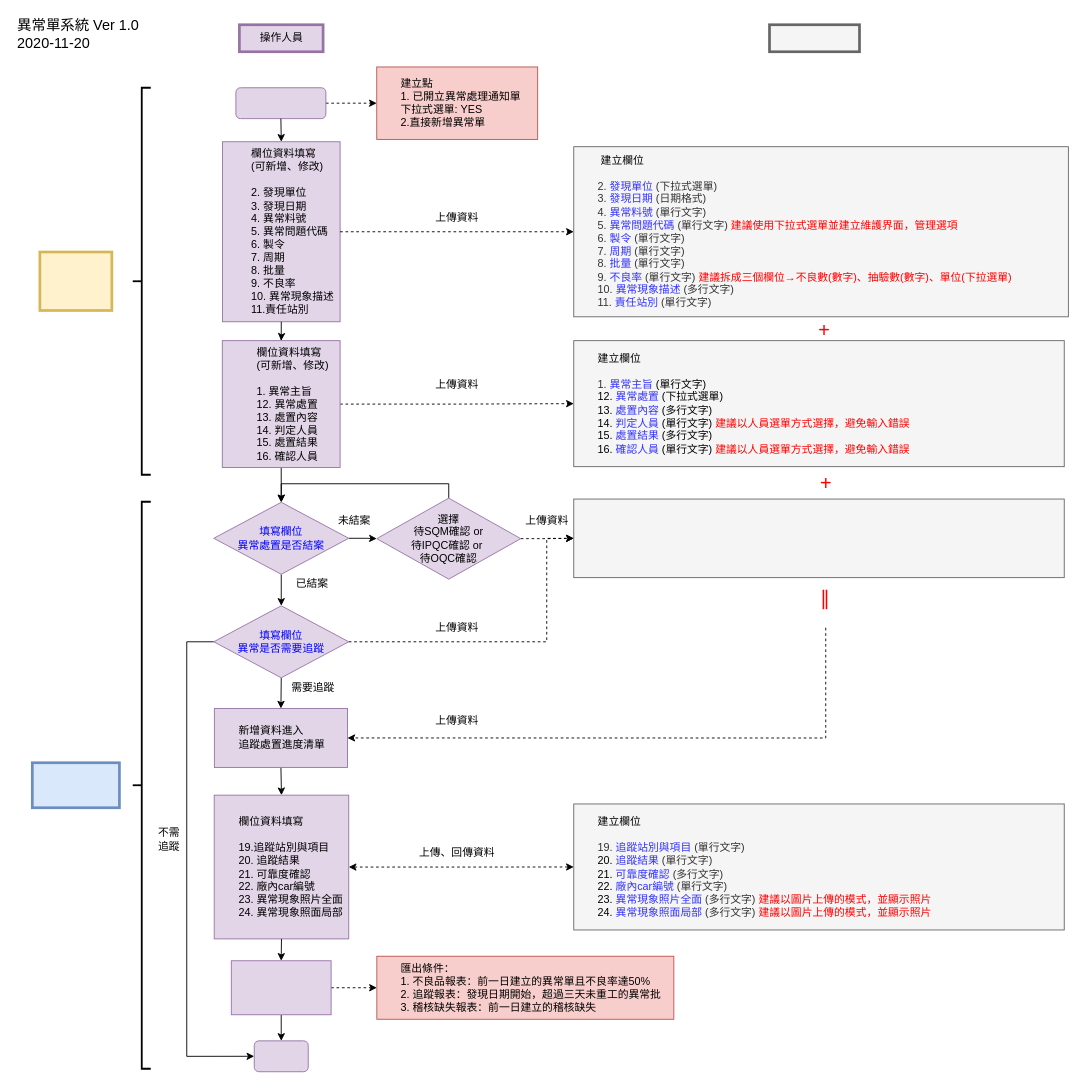
Image size: 1085x1087. Some labels were removed from this diagram. The shapes that lost their labels are listed below. From the top down, each one's centre as x and y in pixels, then its label:
At (814,38): "前研開發".
At (280,103): "建立異常單".
At (75,280): "現場 建單人員".
At (818,538): "建立欄位 17. 異常處置是否結案 (下拉式選單) 18. 異常是否需要追蹤 (多勾選)".
At (75,785): "追蹤處置進度 人員".
At (280,987): "可供匯出檔案".
At (280,1056): "結束".
